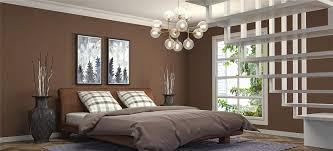bed: (56, 86, 248, 150)
light: (146, 0, 212, 57)
